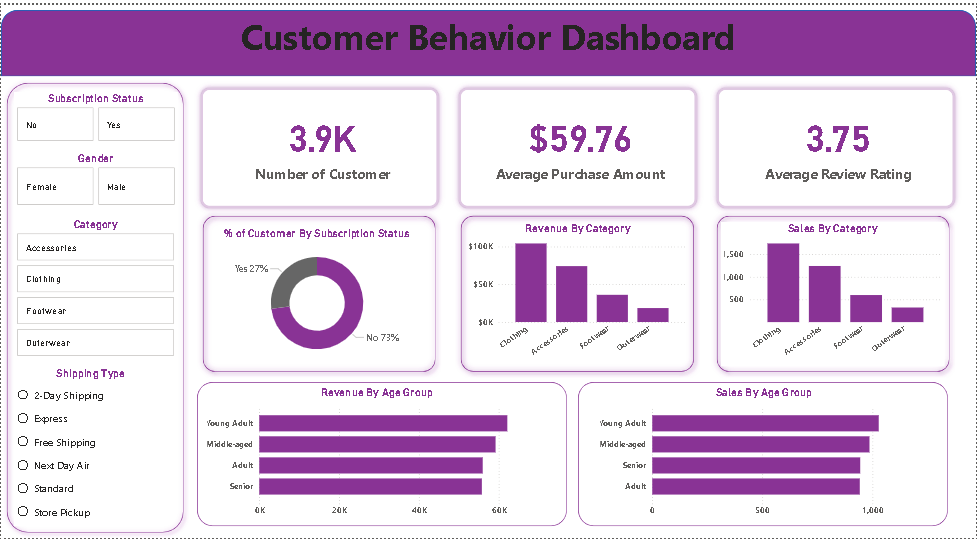

The dashboard page shown, as its layout file describes it:
{"tool":"powerbi","page":{"name":"Page 1","canvas":[1500,820],"ordinal":0},"visuals":[{"type":"cardVisual","fields":{"Data":["customer_behavior customers.Number of Customer","customer_behavior customers.Average Purchase Amount","customer_behavior customers.Average Review Rating"]},"box":[290,110,1194,218],"z":0},{"type":"shape","box":[0,8,1500,102],"z":1000},{"type":"textbox","box":[0,8,1500,126],"z":2000},{"type":"donutChart","title":"% of Customer By Subscription Status","fields":{"Category":["customer_behavior customers.subscription_status"],"Y":["Count(customer_behavior customers.customer_id)"]},"box":[313,341,348,215],"z":3000},{"type":"shape","box":[1092,316,376,258],"z":4000},{"type":"clusteredColumnChart","title":"Revenue By Category","fields":{"Y":["Sum(customer_behavior customers.purchase_amount)"],"Category":["customer_behavior customers.category"]},"box":[715.6,334.4,343.8,221.9],"z":5000},{"type":"clusteredColumnChart","title":"Sales By Category","fields":{"Y":["CountNonNull(customer_behavior customers.customer_id)"],"Category":["customer_behavior customers.category"]},"box":[1108,334,344,222],"z":6000},{"type":"shape","box":[0,110,290,710],"z":7000},{"type":"advancedSlicerVisual","title":"Subscription Status","fields":{"Values":["customer_behavior customers.subscription_status"]},"box":[20,134,252,80],"z":8000},{"type":"advancedSlicerVisual","title":"Gender","fields":{"Values":["customer_behavior customers.gender"]},"box":[20,226,252,86],"z":9000},{"type":"advancedSlicerVisual","title":"Category","fields":{"Values":["customer_behavior customers.category"]},"box":[20,328.4,251.6,220],"z":10000},{"type":"listSlicer","title":"Shipping Type","fields":{"Values":["customer_behavior customers.shipping_type"]},"box":[20.3,556.2,235.9,245.3],"z":11000},{"type":"shape","box":[302,316,376,258],"z":12000},{"type":"shape","box":[698.4,315.6,376.6,257.8],"z":13000},{"type":"shape","box":[887.3,580,569.1,221.8],"z":14000},{"type":"clusteredBarChart","title":"Sales By Age Group","fields":{"Y":["CountNonNull(customer_behavior customers.customer_id)"],"Category":["customer_behavior customers.age_group"]},"box":[923.3,585.6,505.6,208.9],"z":15000},{"type":"shape","box":[301.8,580,569.1,221.8],"z":16000},{"type":"clusteredBarChart","title":"Revenue By Age Group","fields":{"Y":["Sum(customer_behavior customers.purchase_amount)"],"Category":["customer_behavior customers.age_group"]},"box":[312.7,585.5,530.9,209.1],"z":17000}]}

Visuals, with their boxes in screenshot pixels (x1, y1, x2, y2), scaled from the page's 1500x820 canvas onto the 977x539 screenshot:
cardVisual - customer_behavior customers.Number of Customer x customer_behavior customers.Average Purchase Amount: select_region(189, 72, 967, 216)
shape: select_region(0, 5, 976, 72)
textbox: select_region(0, 5, 976, 88)
"% of Customer By Subscription Status" donutChart: select_region(204, 224, 431, 365)
shape: select_region(711, 208, 956, 377)
"Revenue By Category" clusteredColumnChart: select_region(466, 220, 690, 366)
"Sales By Category" clusteredColumnChart: select_region(722, 220, 946, 365)
shape: select_region(0, 72, 189, 538)
"Subscription Status" advancedSlicerVisual: select_region(13, 88, 177, 141)
"Gender" advancedSlicerVisual: select_region(13, 149, 177, 205)
"Category" advancedSlicerVisual: select_region(13, 216, 177, 360)
"Shipping Type" listSlicer: select_region(13, 366, 167, 527)
shape: select_region(197, 208, 442, 377)
shape: select_region(455, 207, 700, 377)
shape: select_region(578, 381, 949, 527)
"Sales By Age Group" clusteredBarChart: select_region(601, 385, 931, 522)
shape: select_region(197, 381, 567, 527)
"Revenue By Age Group" clusteredBarChart: select_region(204, 385, 549, 522)
